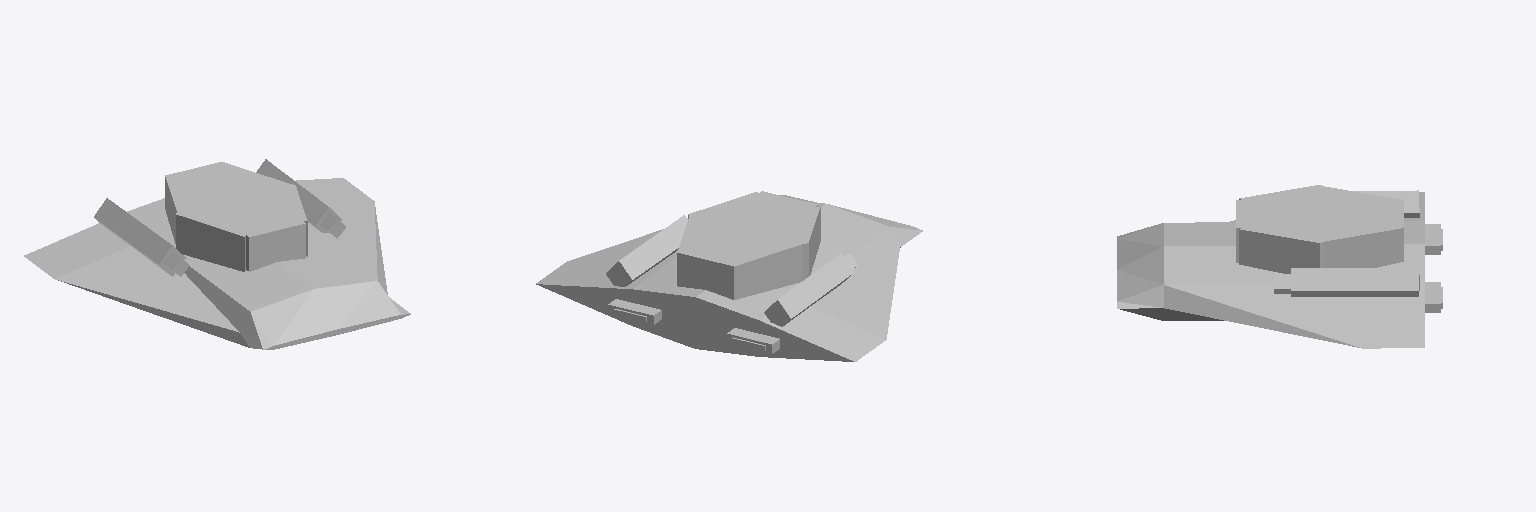
File: Complete Ally Lazarous OBJ.obj
The picture shows the model from 3 angles: view 1: azimuth 30°, elevation 25°; view 2: azimuth 150°, elevation 25°; view 3: azimuth 270°, elevation 25°; orthographic projection.
Visible parts, largest first — view 1: pCylinder1, pasted__pCylinder1 group3, pasted__pasted__pCylinder3 pasted__group1 group4; view 2: pCylinder1, pasted__pCylinder1 group3, pasted__pasted__pCylinder3 pasted__group1 group4, pasted__pCube2 group1, pasted__pasted__pCube2 pasted__group1 group2; view 3: pCylinder1, pasted__pCylinder1 group3, pasted__pasted__pCylinder3 pasted__group1 group4.
Part boxes in pixels (x1,y1,x2,y2): pCylinder1: (24, 178, 410, 349); pasted__pCylinder1 group3: (165, 162, 307, 271); pasted__pasted__pCylinder3 pasted__group1 group4: (94, 159, 345, 276); pCylinder1: (536, 195, 922, 361); pasted__pCylinder1 group3: (677, 191, 820, 299); pasted__pasted__pCylinder3 pasted__group1 group4: (606, 215, 857, 326); pasted__pCube2 group1: (608, 299, 661, 324); pasted__pasted__pCube2 pasted__group1 group2: (727, 328, 779, 353); pCylinder1: (1117, 192, 1424, 348); pasted__pCylinder1 group3: (1236, 185, 1403, 273); pasted__pasted__pCylinder3 pasted__group1 group4: (1274, 190, 1419, 296).
Bounding box in the file's own units: 12.96 × 3.24 × 11.44.